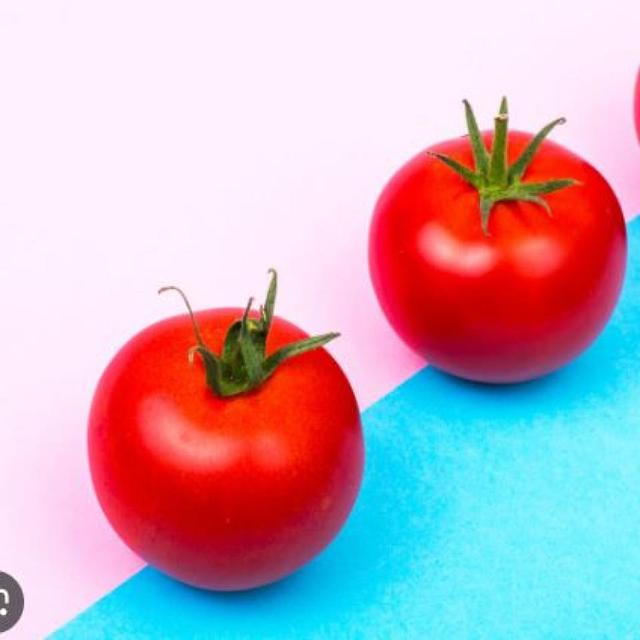Healthy Fruit: (156, 169, 335, 295)
